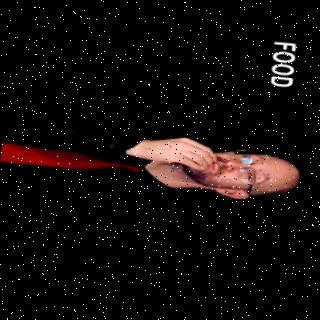Food: (0, 107, 307, 228)
